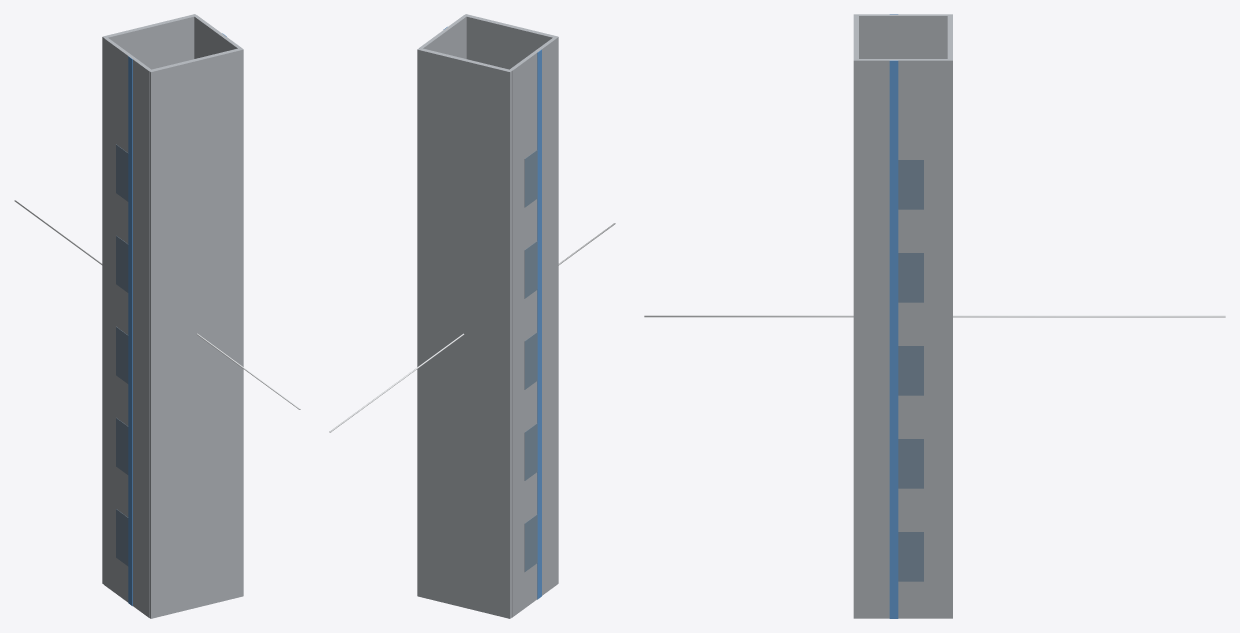
Rendered from train_carriage.glb.
The picture shows the model from 3 angles, left to right: view 1: azimuth 30°, elevation 25°; view 2: azimuth 150°, elevation 25°; view 3: azimuth 270°, elevation 25°; orthographic projection. The views are drawn at different scales.
Parts seen in each view (by area): view 1: TrainCarriageMesh; view 2: TrainCarriageMesh; view 3: TrainCarriageMesh.
Boxes of the visible parts, x1,y1,x2,y2 form: TrainCarriageMesh: (14,14,300,618); TrainCarriageMesh: (329,14,615,618); TrainCarriageMesh: (644,14,1225,618).
Bounding box in the file's own units: 3.26 × 18 × 17.
